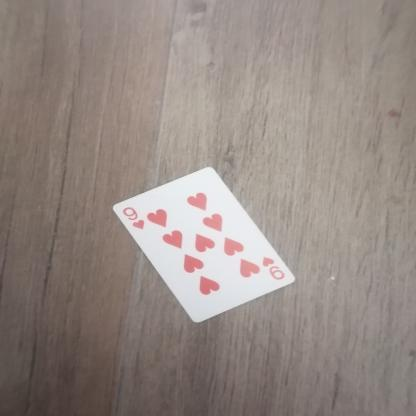9H: (255, 250, 290, 288), (113, 206, 150, 234)
